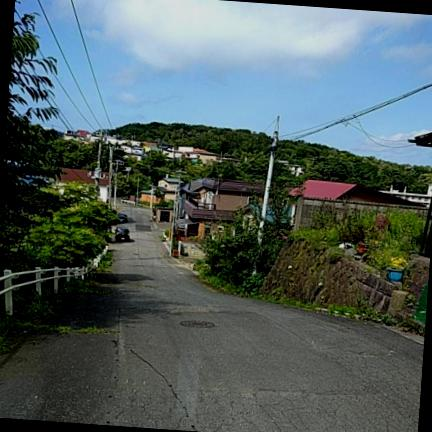Road: (0, 208, 423, 431)
